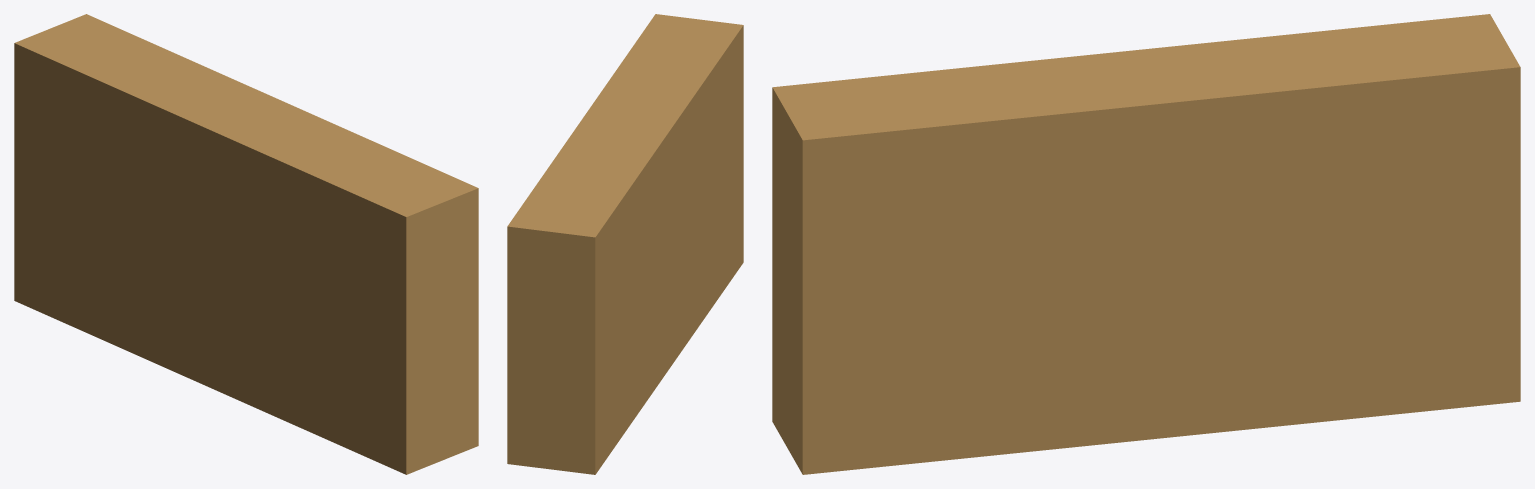
The picture shows the model from 3 angles, left to right: view 1: azimuth 30°, elevation 25°; view 2: azimuth 150°, elevation 25°; view 3: azimuth 270°, elevation 25°; orthographic projection. The views are drawn at different scales.
Visible parts, largest first — view 1: RUN-018-S00-NOG-00; view 2: RUN-018-S00-NOG-00; view 3: RUN-018-S00-NOG-00.
Boxes of the visible parts, x1=… form: RUN-018-S00-NOG-00: x1=14, y1=14, x2=478, y2=474; RUN-018-S00-NOG-00: x1=507, y1=14, x2=743, y2=474; RUN-018-S00-NOG-00: x1=772, y1=14, x2=1520, y2=474.
Bounding box in the file's own units: 0.0365 × 0.045 × 0.0912.
